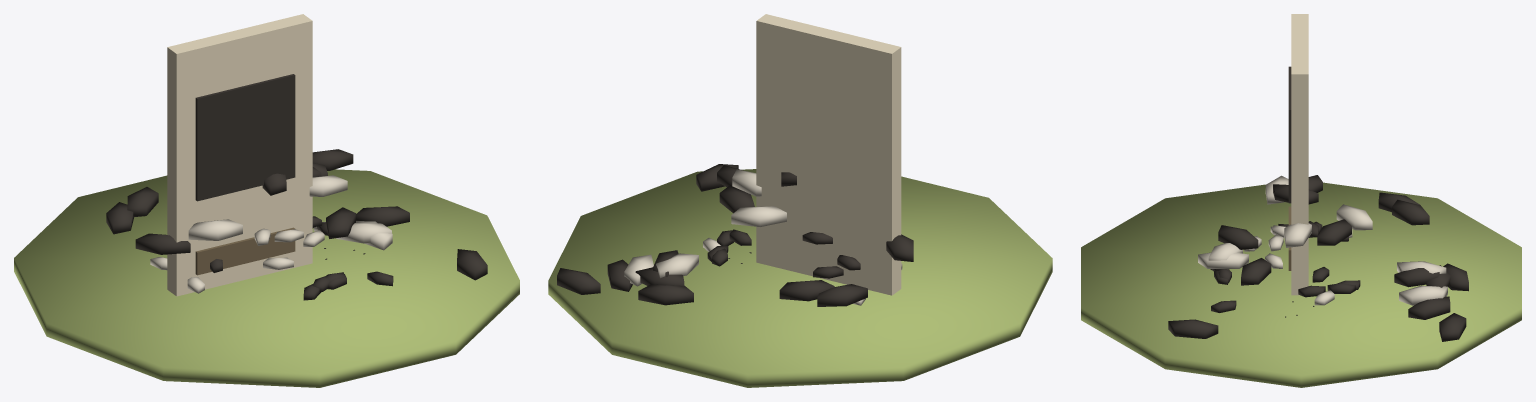
File: Nut_Sunflower.fbx
3 views of the same model, side by side, from view 1: azimuth 30°, elevation 25°; view 2: azimuth 150°, elevation 25°; view 3: azimuth 270°, elevation 25° (orthographic). The views are drawn at different scales.
Visible parts, largest first — view 1: Nut_Sunflower__Stack, Nut_Sunflower__Seed, Nut_Sunflower; view 2: Nut_Sunflower__Stack, Nut_Sunflower__Seed, Nut_Sunflower; view 3: Nut_Sunflower__Stack, Nut_Sunflower__Seed, Nut_Sunflower.
Boxes of the visible parts, x1,y1,x2,y2 form: Nut_Sunflower__Stack: (14, 149, 519, 387); Nut_Sunflower__Seed: (167, 14, 365, 296); Nut_Sunflower: (150, 216, 393, 300); Nut_Sunflower__Stack: (548, 164, 1052, 387); Nut_Sunflower__Seed: (728, 14, 901, 295); Nut_Sunflower: (703, 229, 902, 305); Nut_Sunflower__Stack: (1081, 175, 1521, 387); Nut_Sunflower__Seed: (1285, 14, 1314, 317); Nut_Sunflower: (1210, 221, 1360, 312).
Bounding box in the file's own units: 0.162 × 0.09 × 0.1541.
